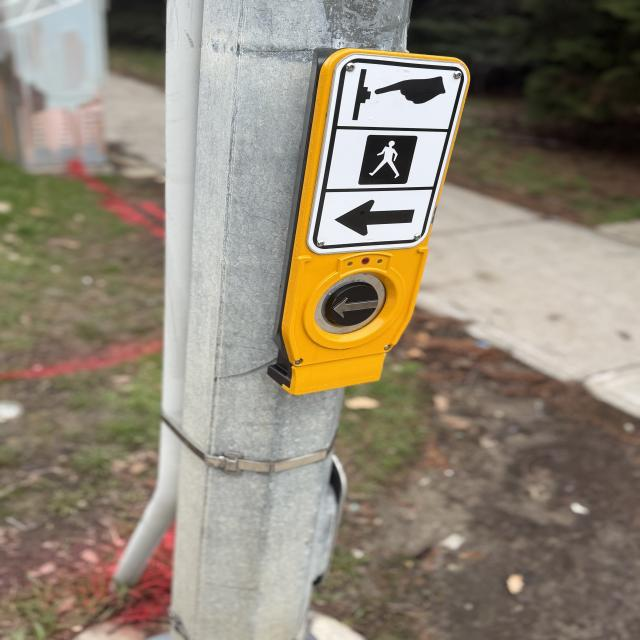Electrical Pole: (152, 2, 473, 640)
